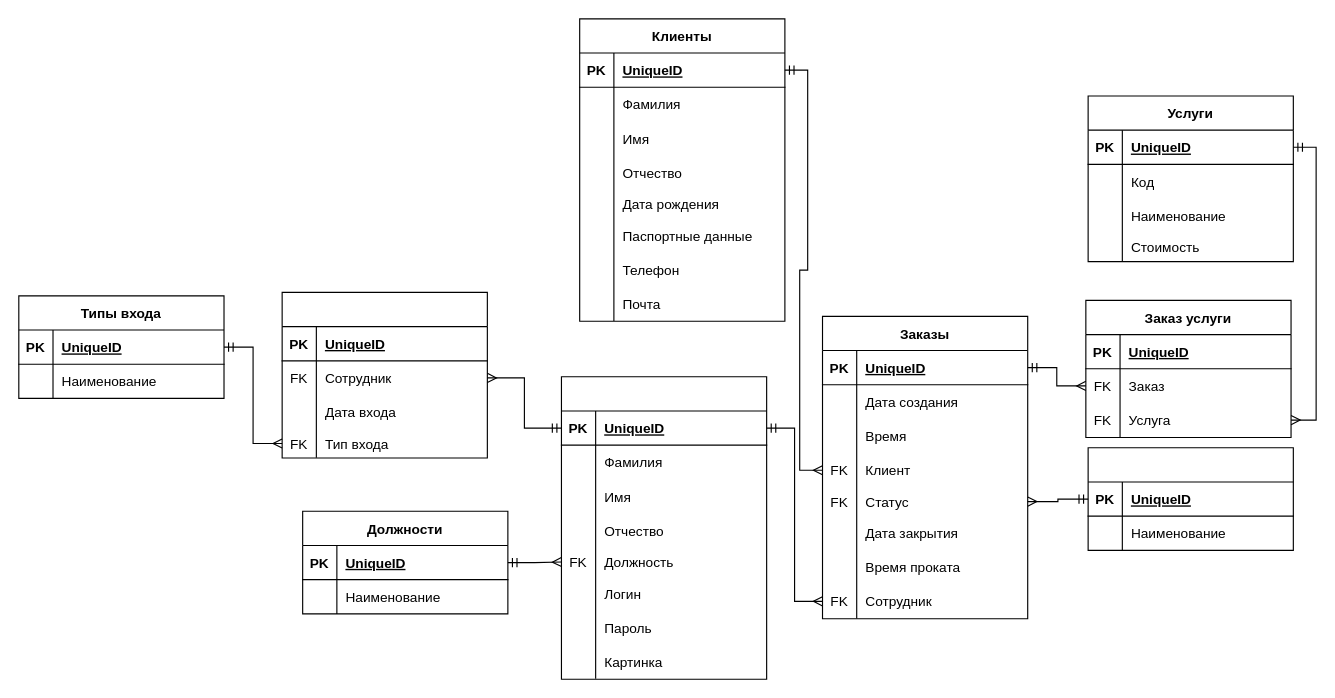
Some shapes in this 1335 by 698 pixel diagram are drawn without their labels. The box of each missing label's shape, as (x1, y1, x2, y2) in pixels:
История входов: (281, 291, 487, 458)
Сотрудники: (560, 376, 767, 679)
Статусы заказа: (1087, 447, 1293, 550)
